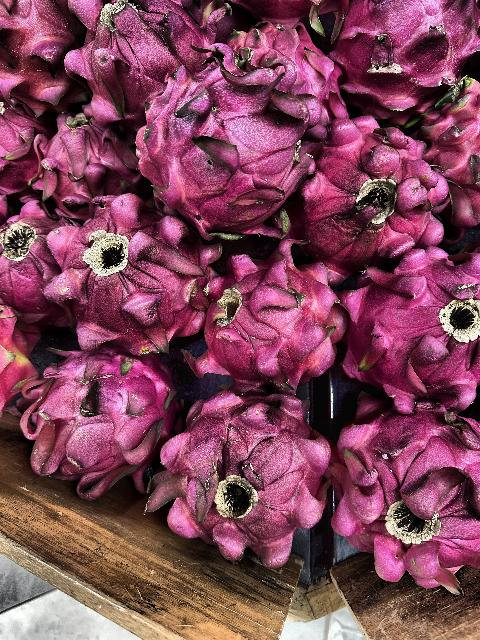buah-naga-matang: (141, 45, 331, 221), (324, 389, 480, 599), (166, 386, 328, 576), (54, 185, 225, 363), (300, 108, 456, 270), (20, 342, 177, 502), (344, 251, 480, 413), (196, 245, 342, 391), (68, 1, 222, 108), (316, 0, 480, 100), (396, 67, 480, 223), (39, 120, 145, 214), (0, 212, 68, 310)
